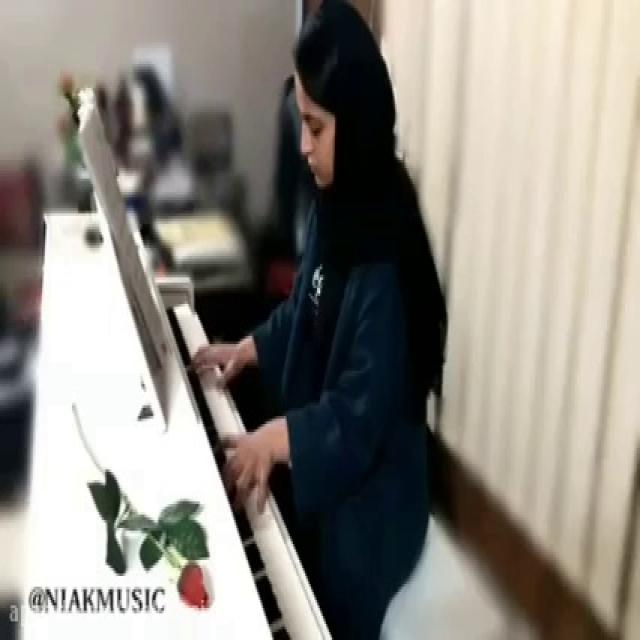Piano: (159, 294, 339, 640)
